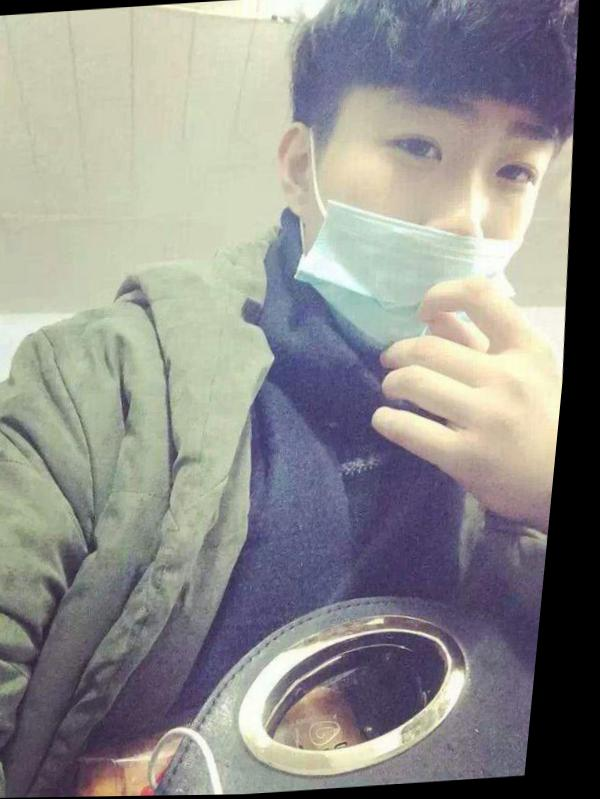WRONG: (304, 70, 574, 362)
